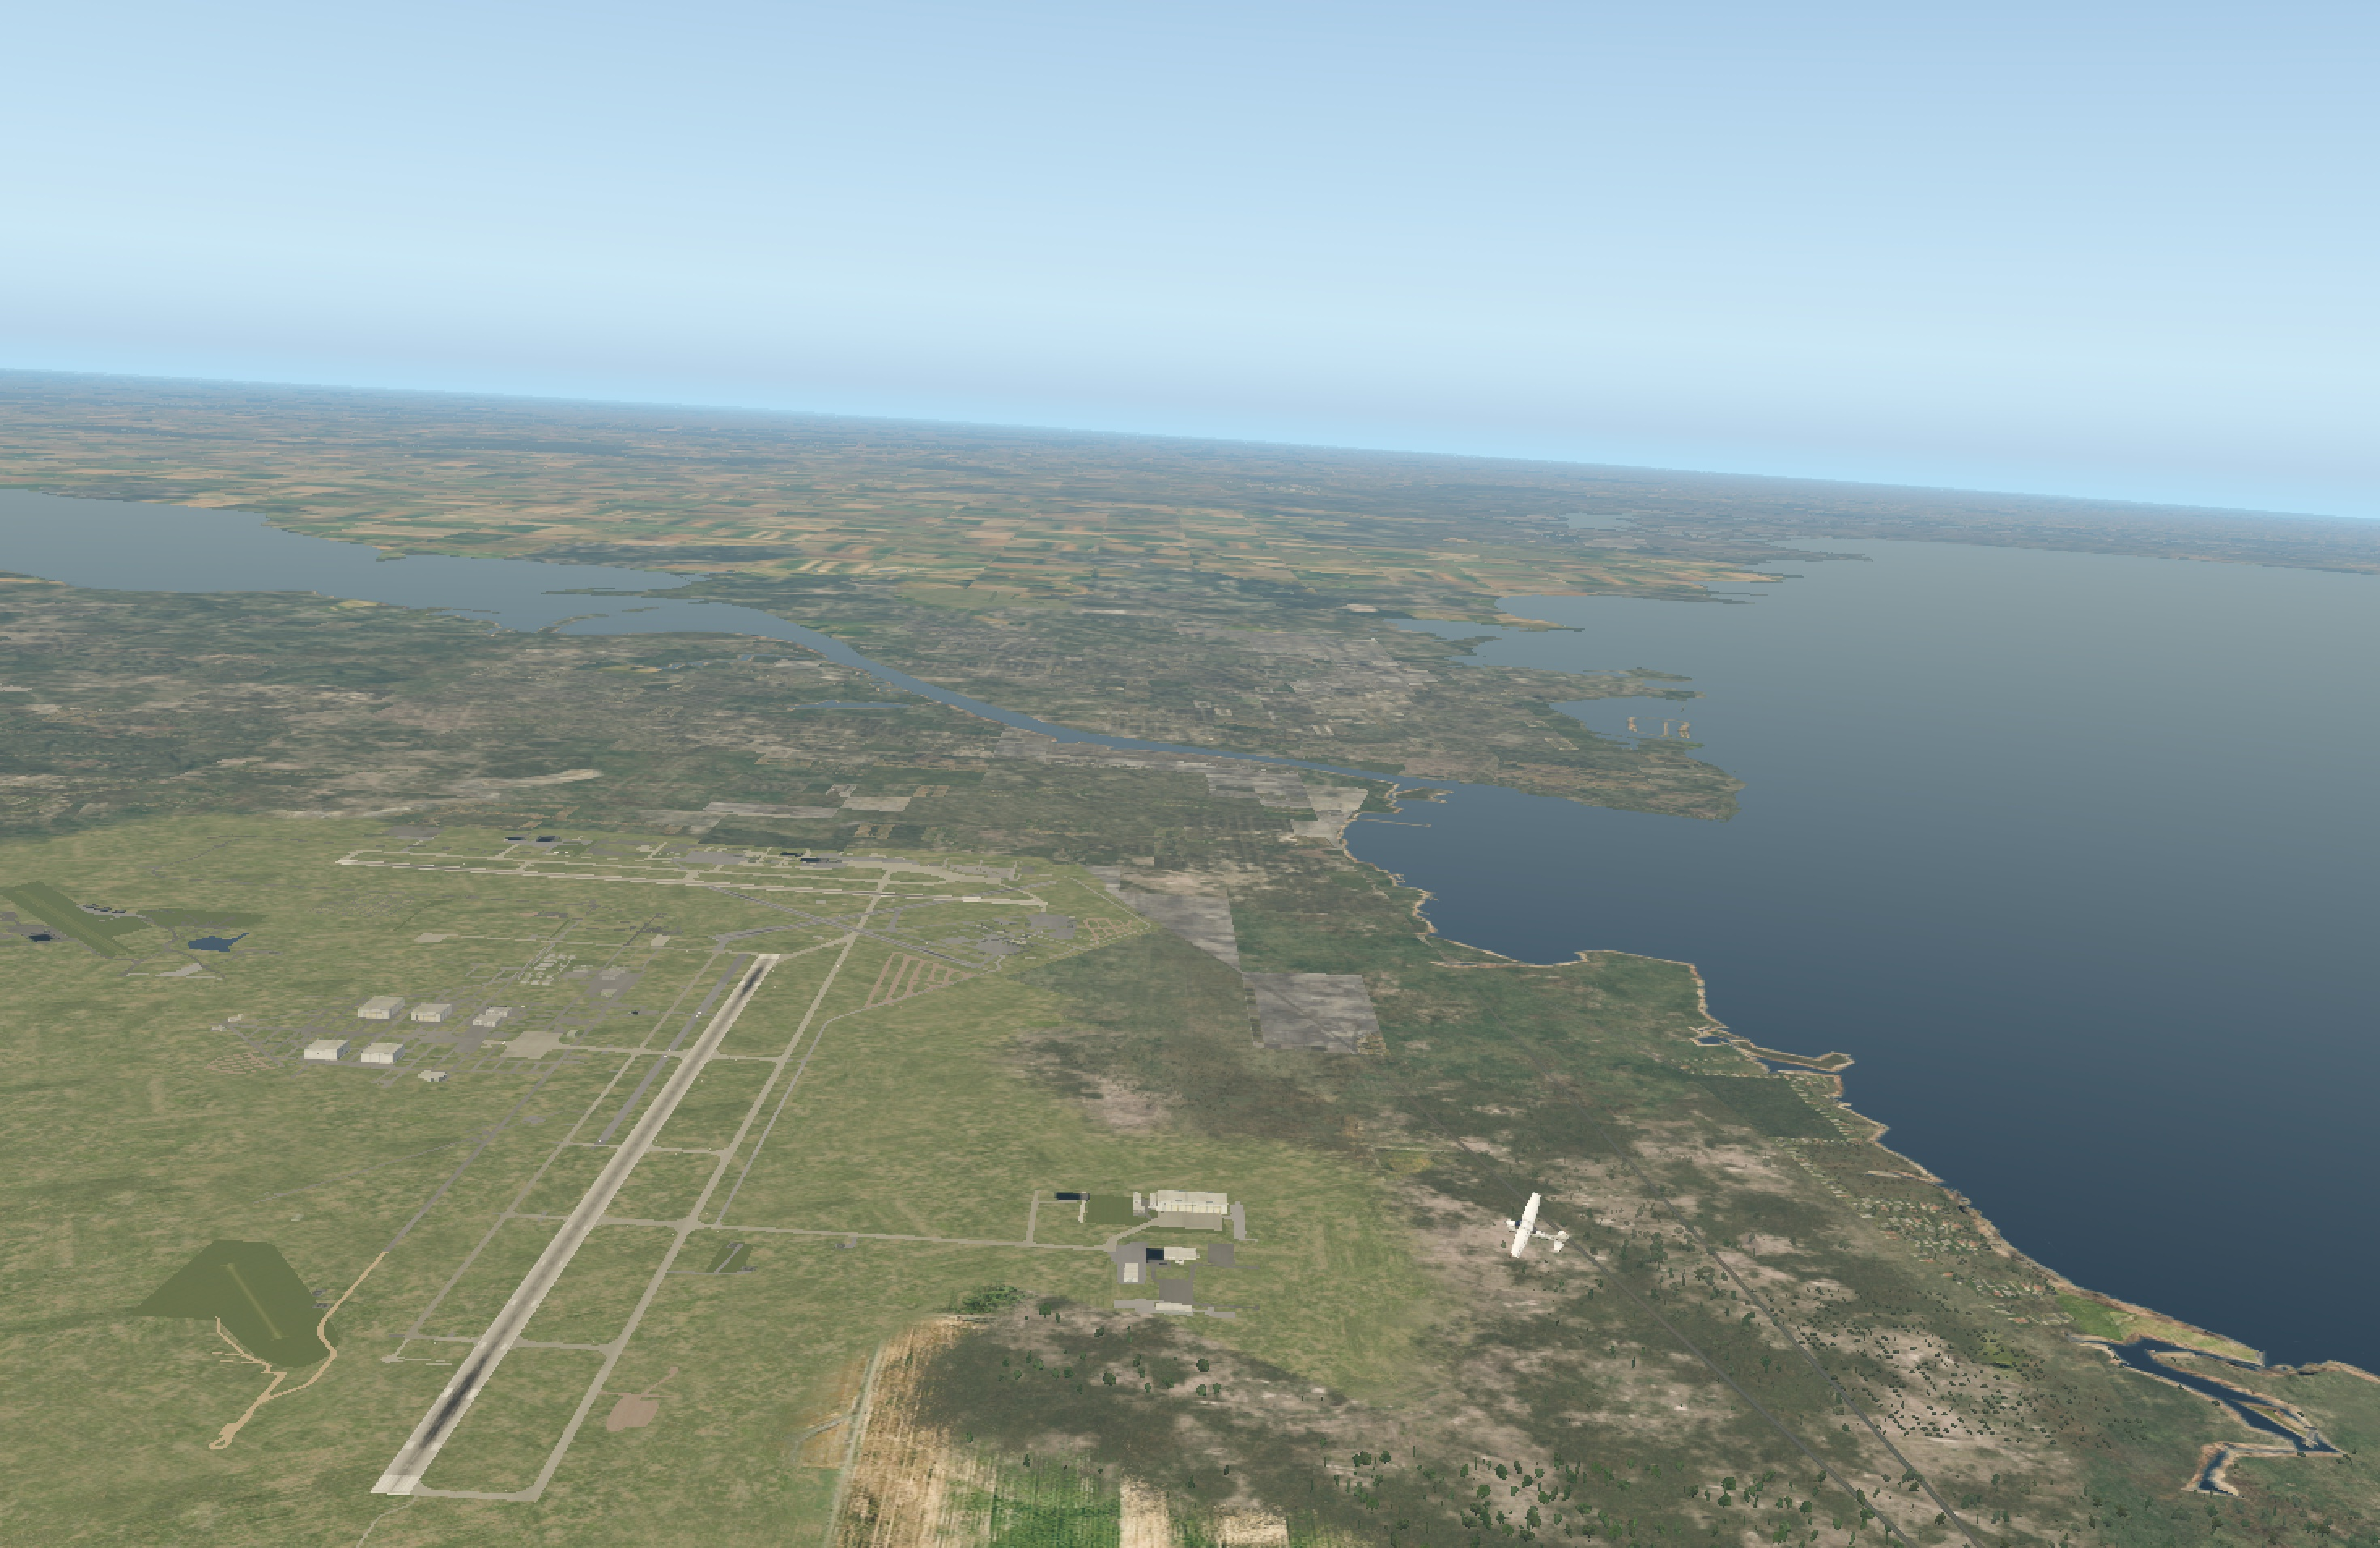aircraft: (1492, 1217, 1554, 1239)
